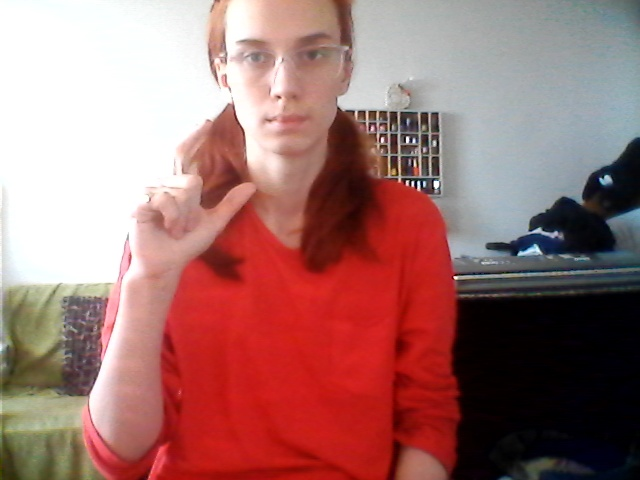c: (113, 119, 266, 263)
